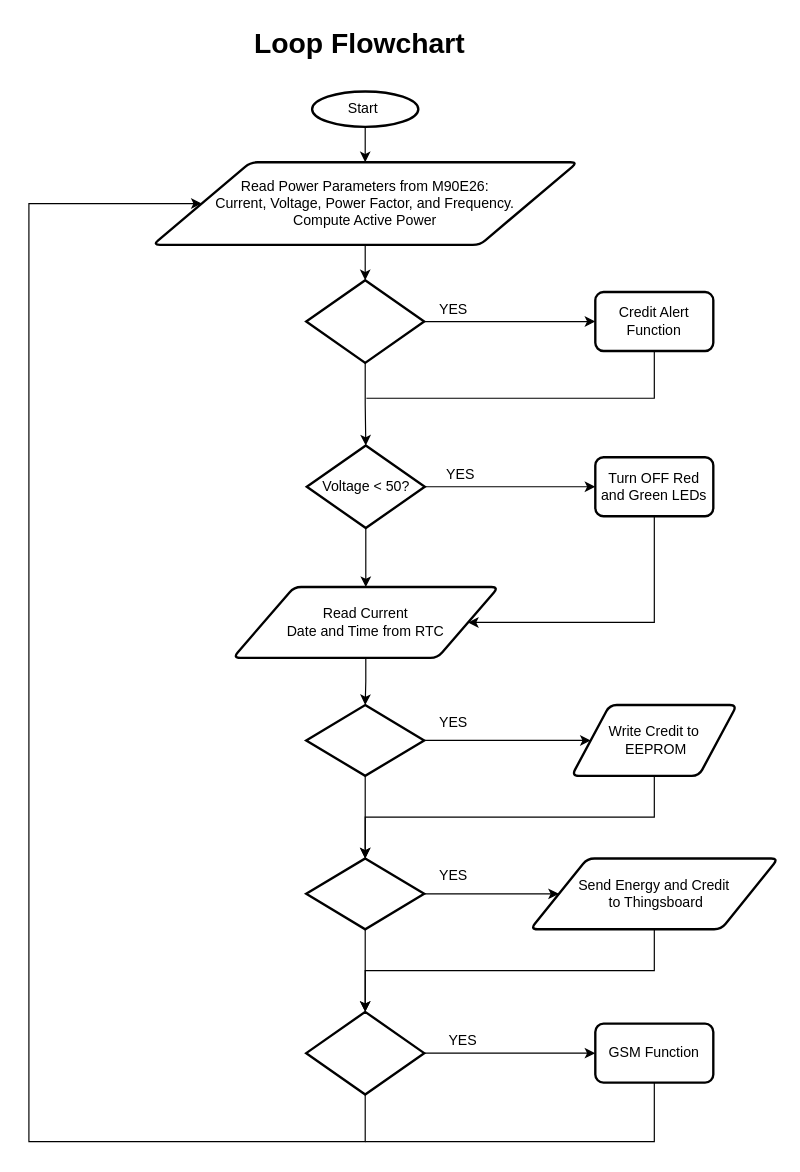
Image size: 800x1172. Some labels were removed from this diagram. Each missing label, with the box of its shape:
Hours == 23?: (304, 857, 425, 930)
Minutes == 30?: (304, 703, 425, 776)
No Keypad Process?: (304, 1010, 425, 1095)
Voltage > 50?: (304, 278, 425, 363)
